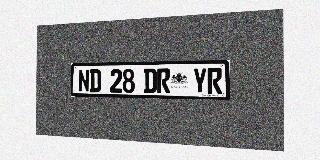2: (110, 69, 122, 93)
8: (123, 69, 135, 93)
D: (144, 68, 157, 93), (90, 69, 101, 92)
N: (78, 69, 89, 92)
R: (207, 68, 222, 94), (157, 68, 170, 93)
Y: (193, 68, 207, 94)
